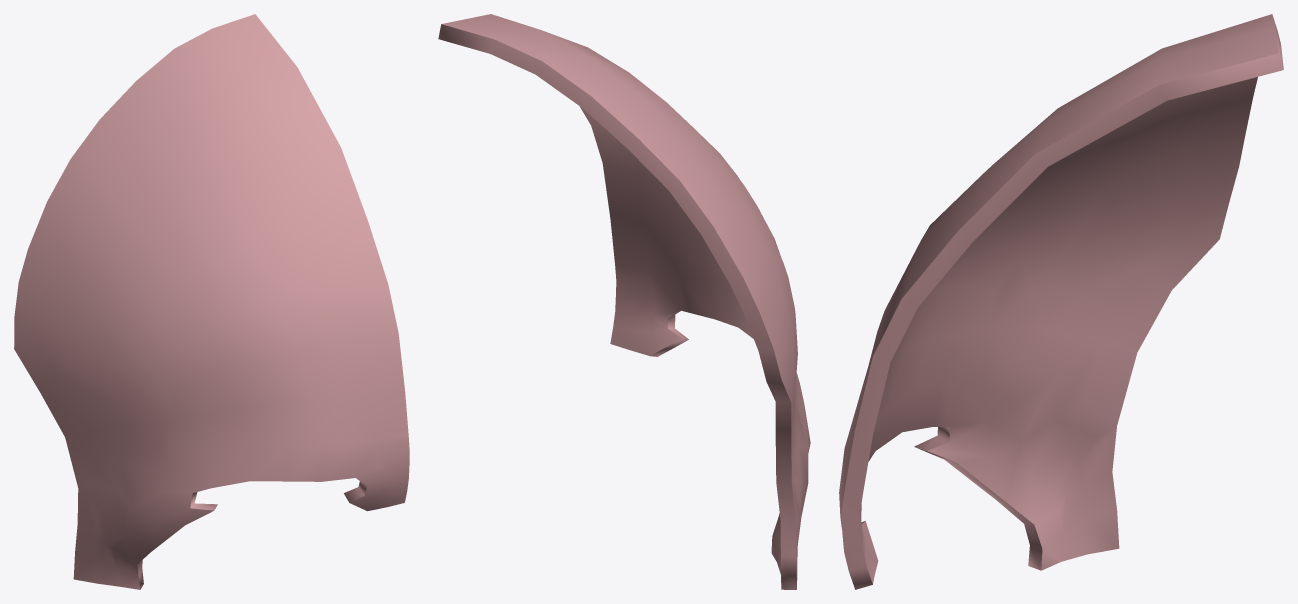
The picture shows the model from 3 angles, left to right: view 1: azimuth 30°, elevation 25°; view 2: azimuth 150°, elevation 25°; view 3: azimuth 270°, elevation 25°; orthographic projection. The views are drawn at different scales.
Visible parts, largest first — view 1: ZA_341352dc1ed7c2b5; view 2: ZA_341352dc1ed7c2b5; view 3: ZA_341352dc1ed7c2b5.
Boxes of the visible parts, x1,y1,x2,y2 form: ZA_341352dc1ed7c2b5: (14, 14, 409, 589); ZA_341352dc1ed7c2b5: (438, 14, 810, 589); ZA_341352dc1ed7c2b5: (839, 14, 1283, 589).
Size of the model in its own units: 0.0696 by 0.116 by 0.0714.
